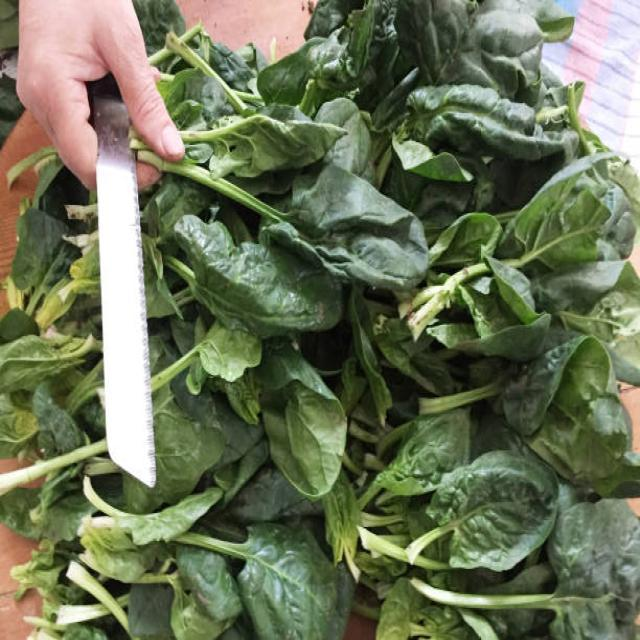faca: (15, 1, 188, 491)
